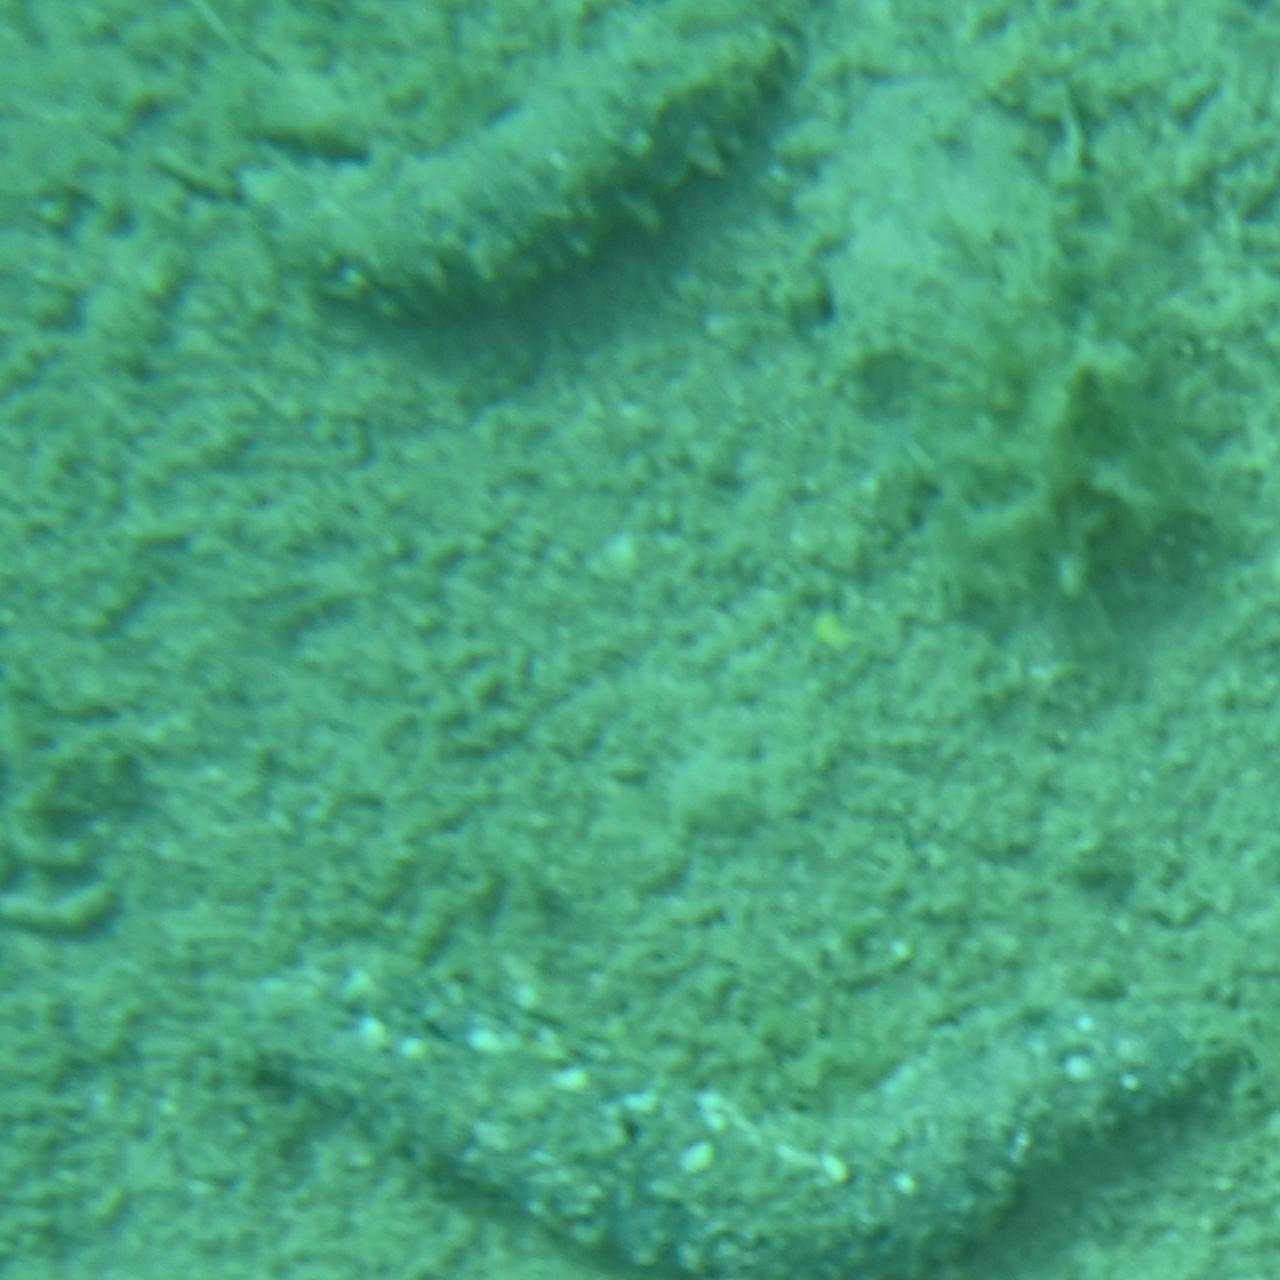Holothuria tubulosa: (241, 931, 1280, 1280), (223, 0, 808, 324)
